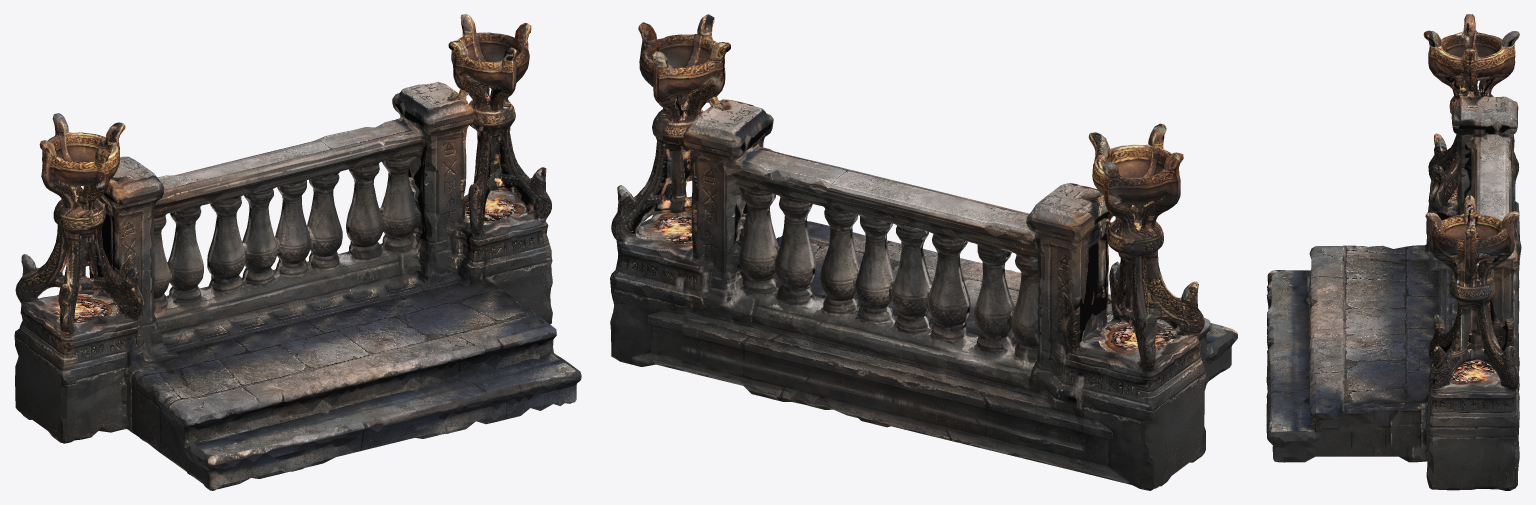
Rendered from HC_STHall_WideWallStair_01.fbx.
The picture shows the model from 3 angles, left to right: view 1: azimuth 30°, elevation 25°; view 2: azimuth 150°, elevation 25°; view 3: azimuth 270°, elevation 25°; orthographic projection. The views are drawn at different scales.
Parts seen in each view (by area): view 1: HC_STHall_WideWallStair_01; view 2: HC_STHall_WideWallStair_01; view 3: HC_STHall_WideWallStair_01.
Boxes of the visible parts, <box> form: HC_STHall_WideWallStair_01: <box>14,14,581,490</box>; HC_STHall_WideWallStair_01: <box>610,14,1237,490</box>; HC_STHall_WideWallStair_01: <box>1266,14,1521,490</box>.
Size of the model in its own units: 1.98 by 0.9797 by 1.11.
